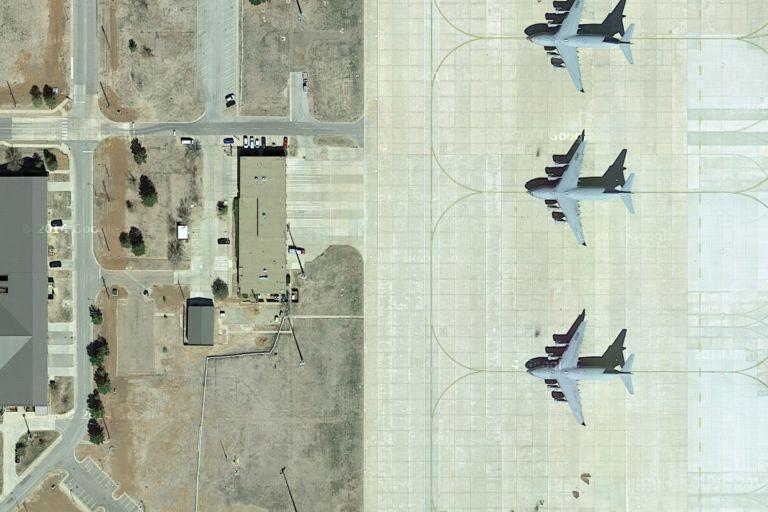C-17: (523, 130, 643, 248), (520, 312, 642, 426), (524, 2, 642, 96)
